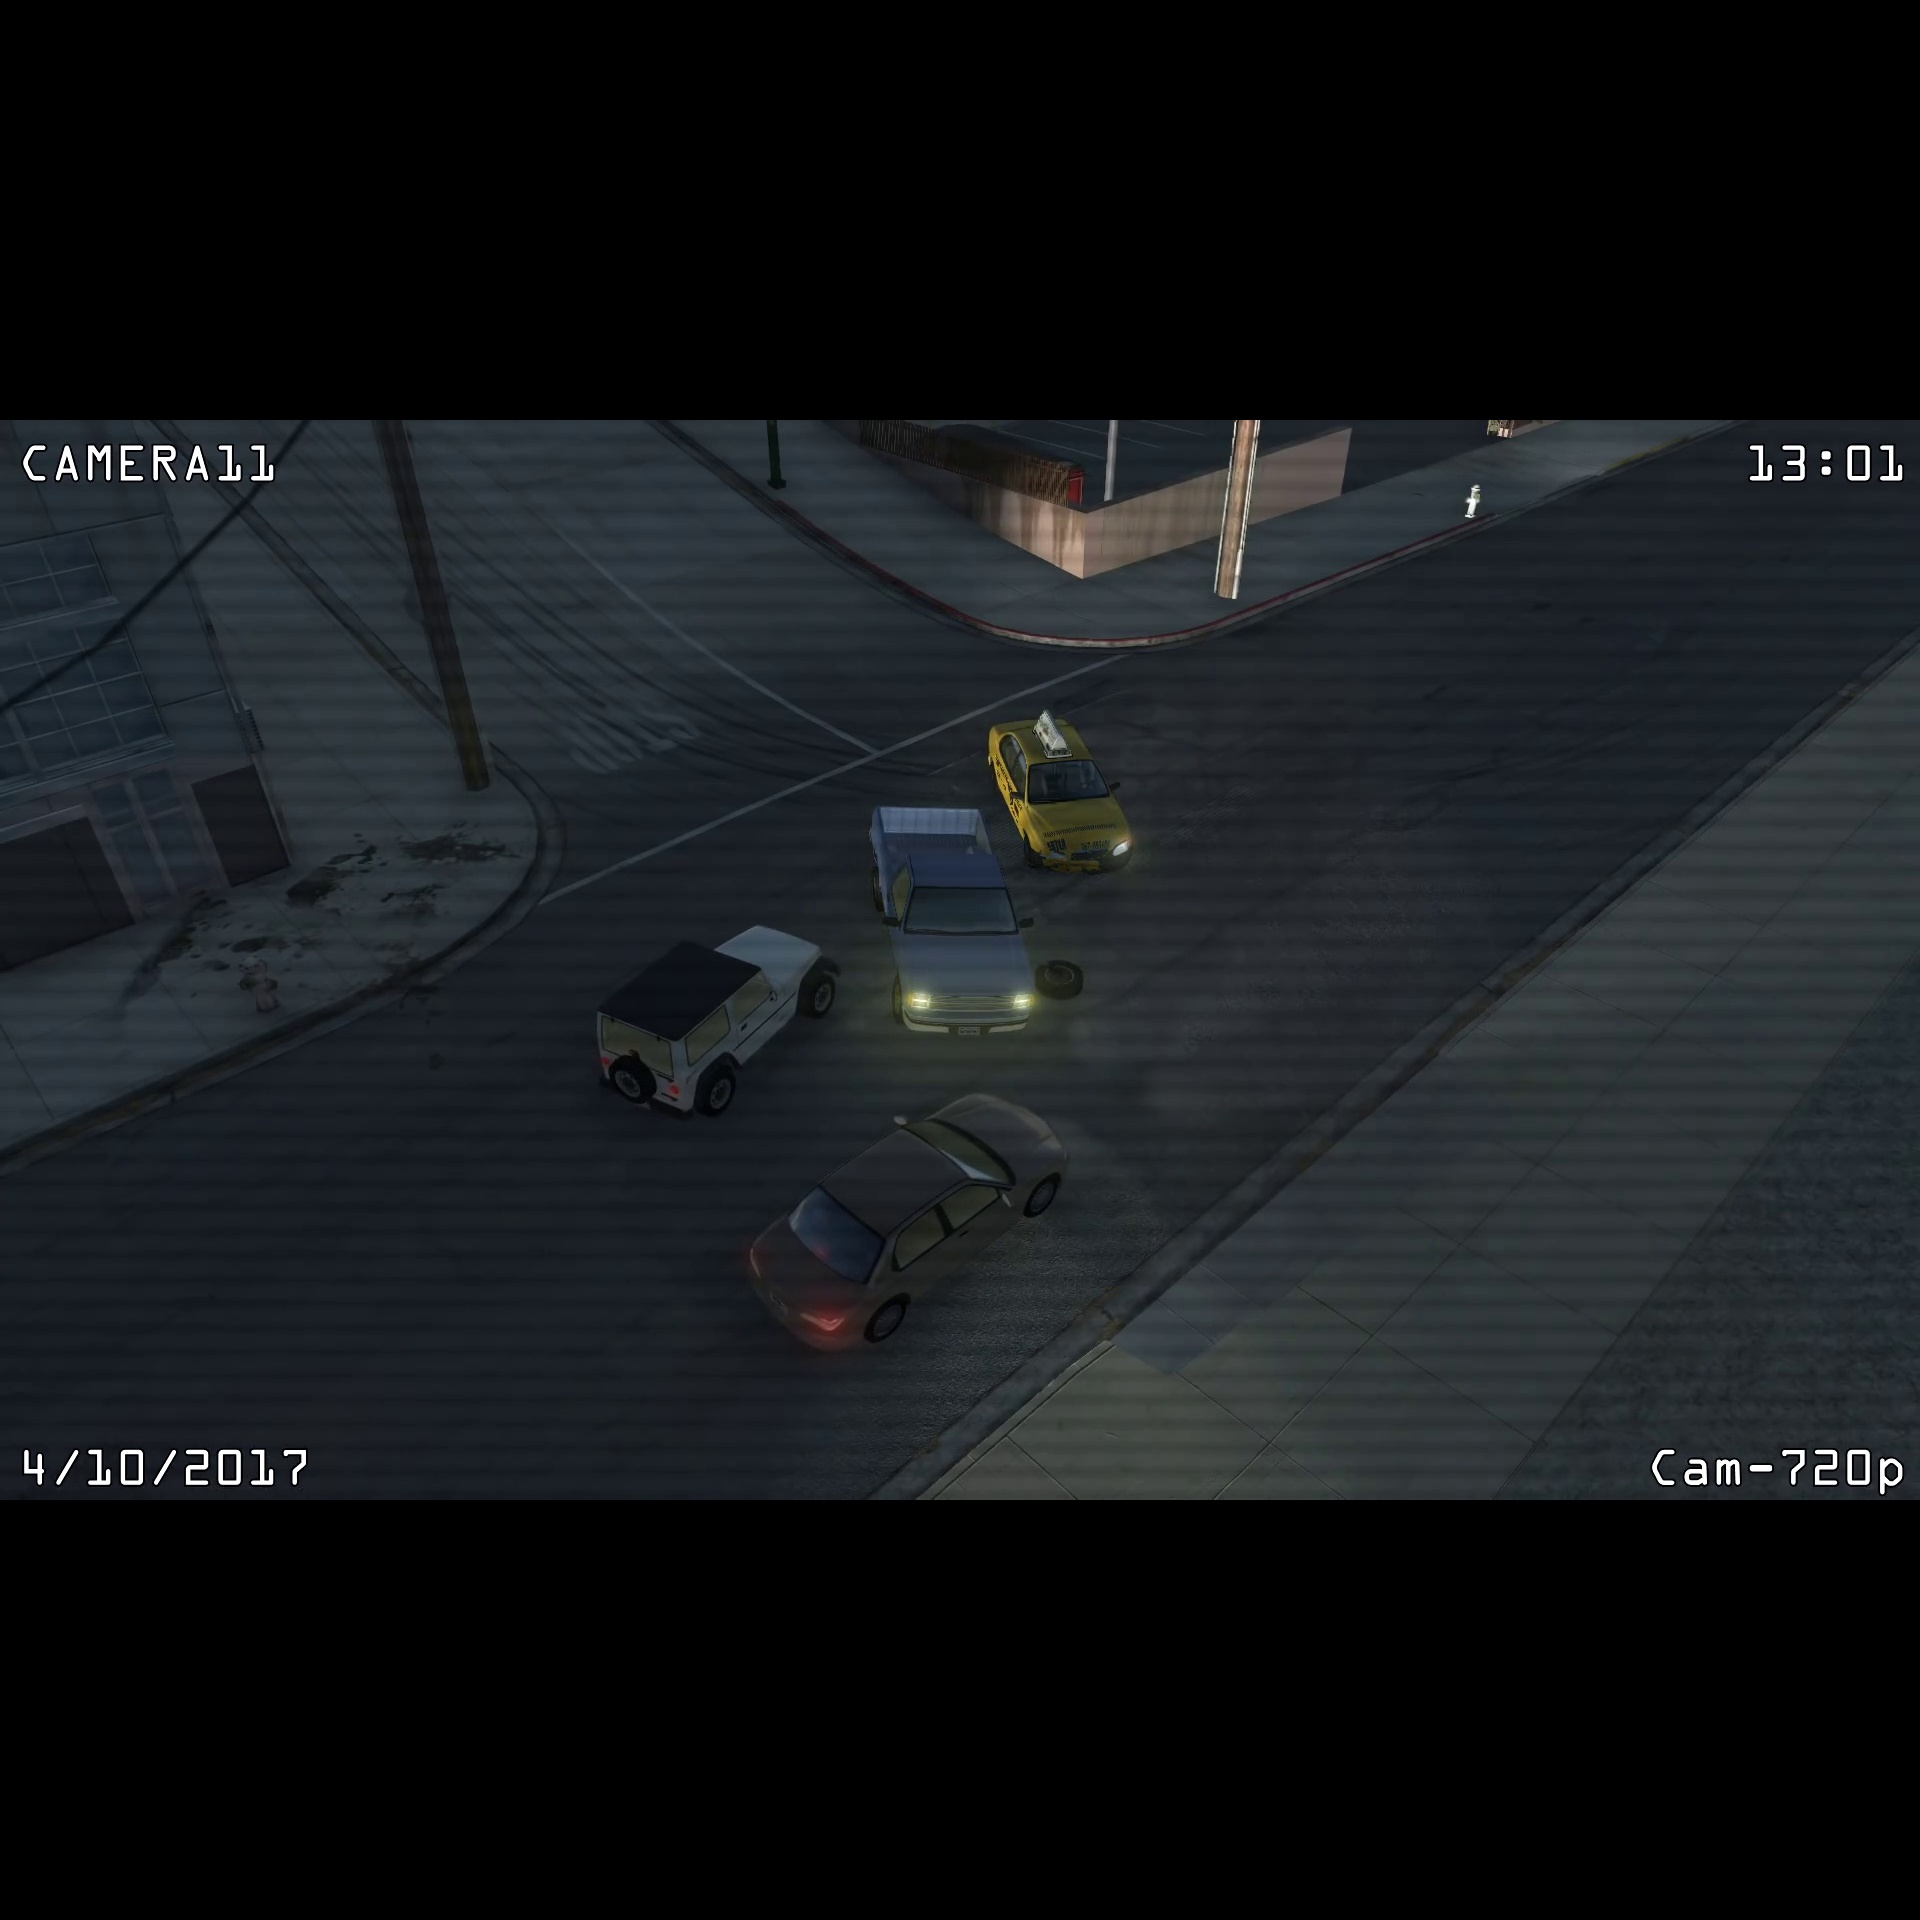vehicle: (738, 1080, 1074, 1361), (587, 904, 849, 1129), (858, 791, 1039, 1044), (979, 712, 1141, 883)
